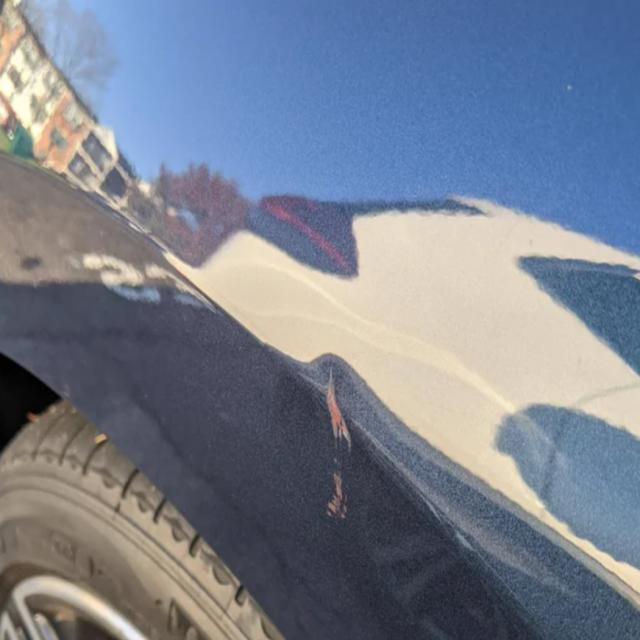dents: (284, 338, 375, 471)
